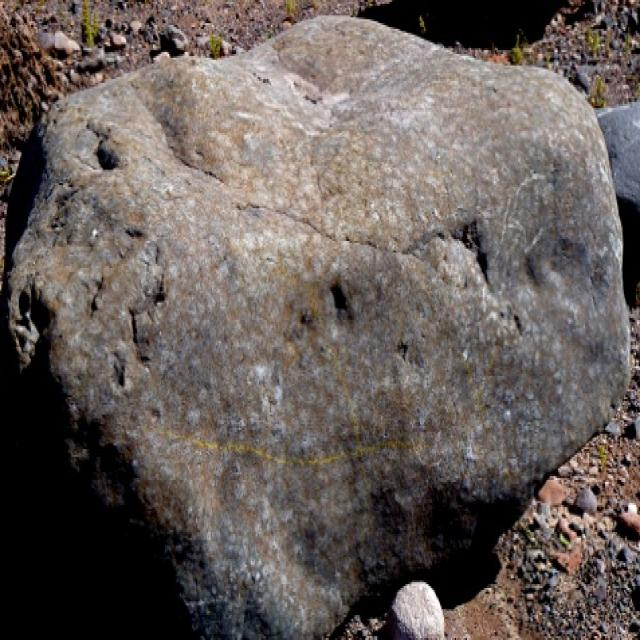Igneous: (1, 14, 635, 638)
